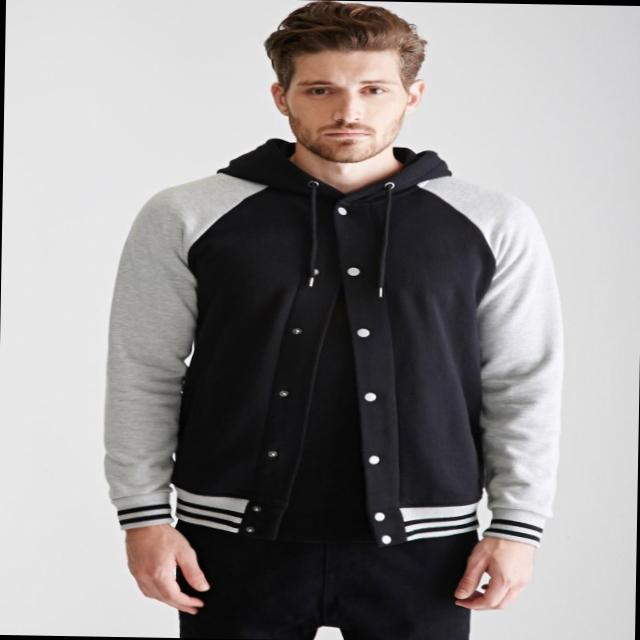Jacket: (93, 162, 573, 553)
